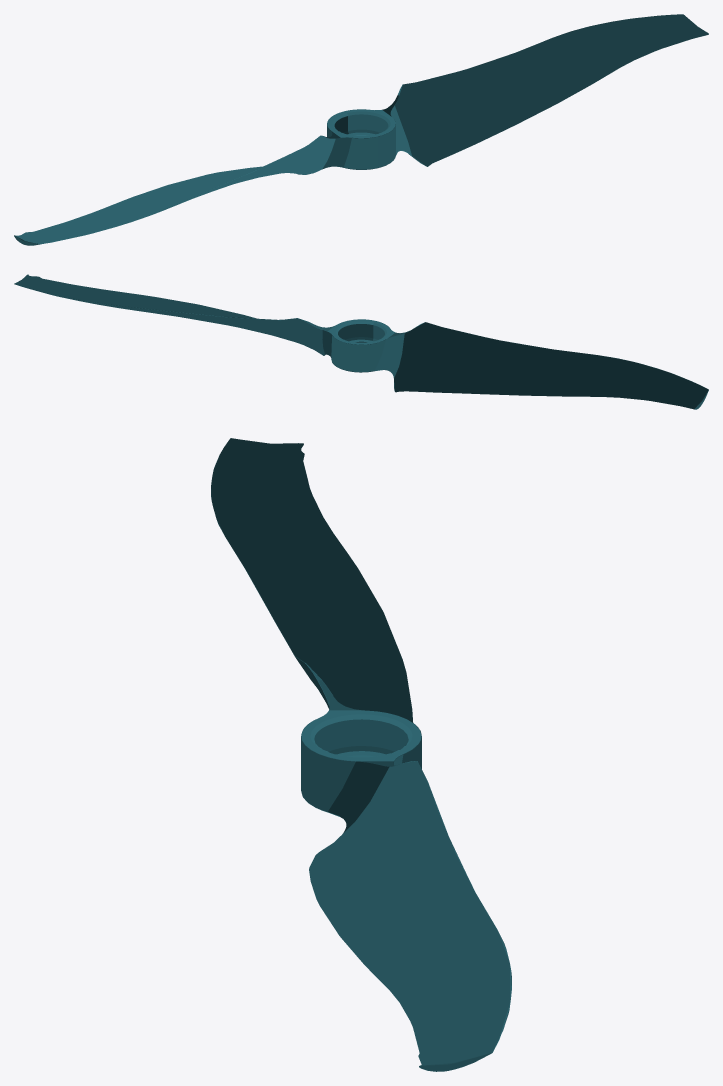
Rendered from default_propeller_1.5x0.75_cw.dae.
The picture shows the model from 3 angles, top to bottom: view 1: azimuth 30°, elevation 25°; view 2: azimuth 150°, elevation 25°; view 3: azimuth 270°, elevation 25°; orthographic projection. The views are drawn at different scales.
Visible parts, largest first — view 1: node0; view 2: node0; view 3: node0.
Boxes of the visible parts, x1=… form: node0: x1=14, y1=14, x2=708, y2=245; node0: x1=14, y1=274, x2=708, y2=409; node0: x1=211, y1=438, x2=511, y2=1071.
Size of the model in its own units: 37.98 by 7.77 by 2.98.
